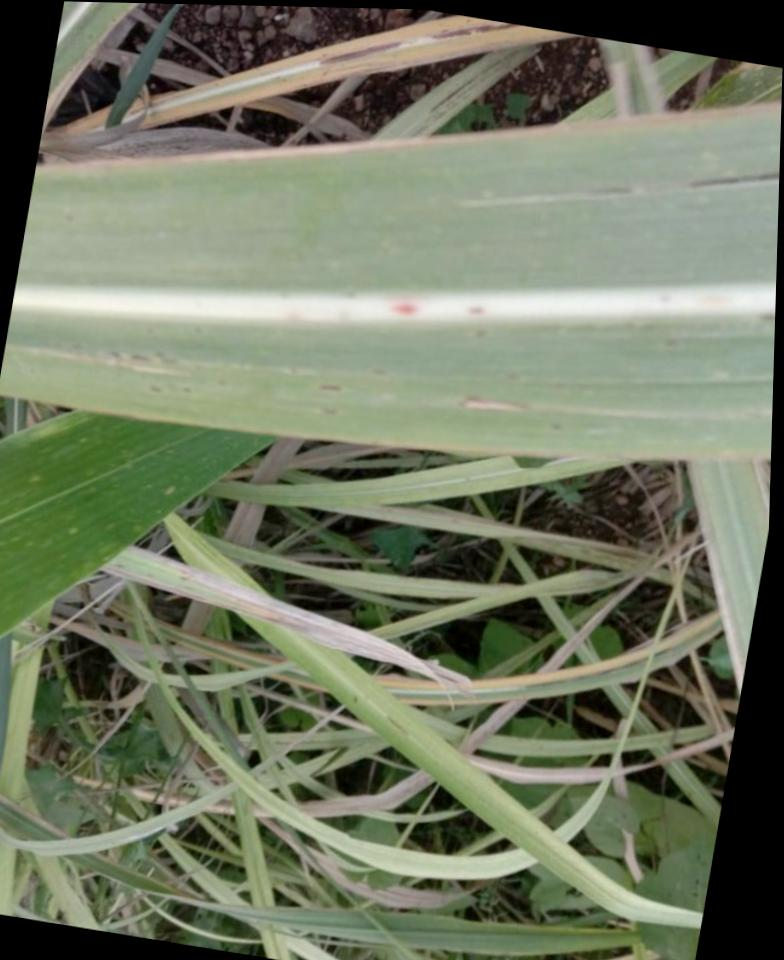RedRot: (316, 43, 402, 65), (428, 24, 518, 39), (388, 302, 416, 316), (464, 305, 488, 315)
Rust: (686, 170, 779, 189), (108, 350, 177, 364), (588, 187, 634, 195), (317, 384, 344, 393), (756, 313, 775, 323), (548, 419, 563, 430), (371, 367, 387, 377), (319, 408, 340, 415), (505, 373, 519, 382), (148, 386, 162, 393), (476, 330, 486, 339), (182, 387, 190, 394)
Yellow: (138, 26, 580, 130), (123, 16, 493, 116), (62, 104, 111, 131)
